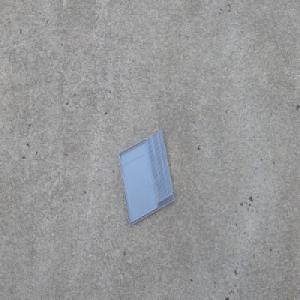PlasticPart: (117, 128, 175, 227)
